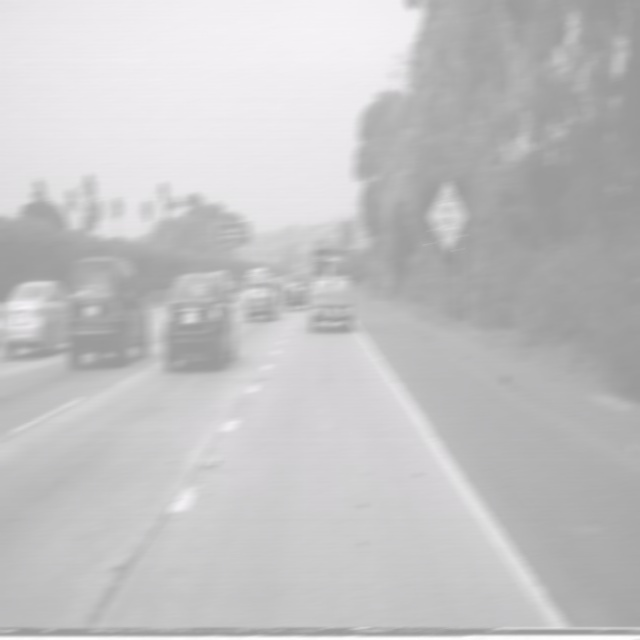thruMergeLeft: (428, 177, 466, 253)
